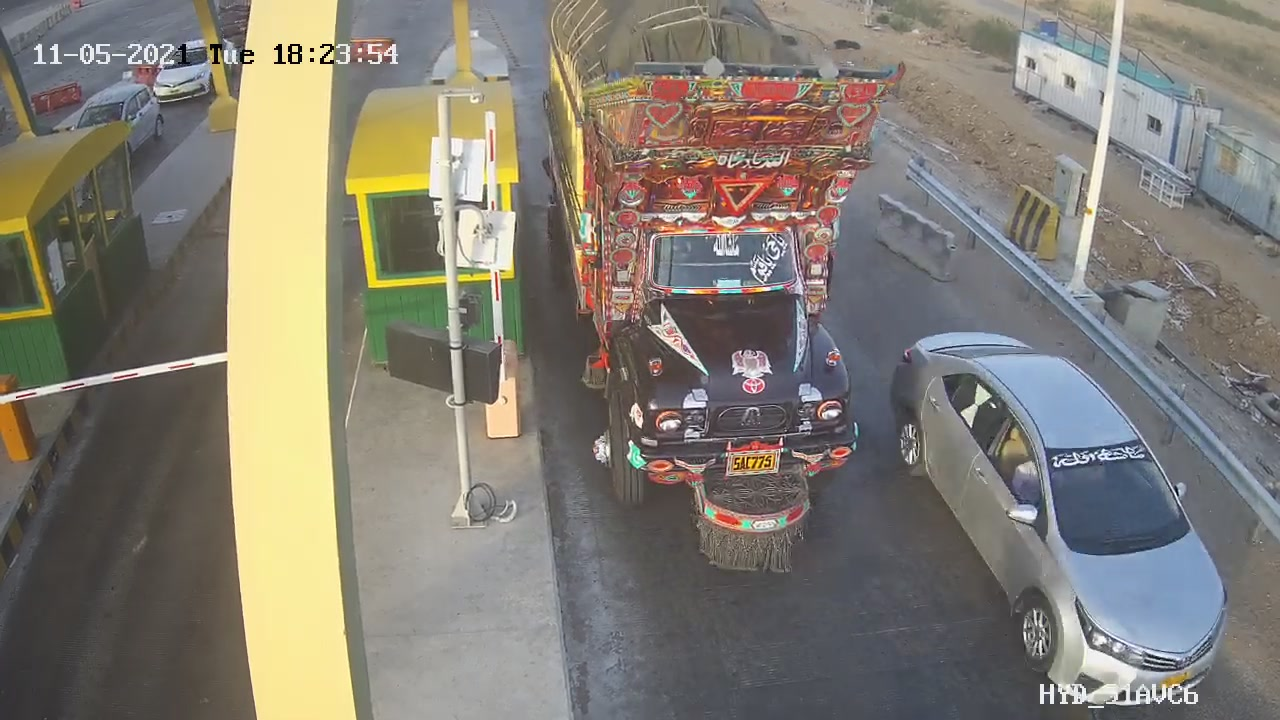F5: (537, 30, 919, 581)
